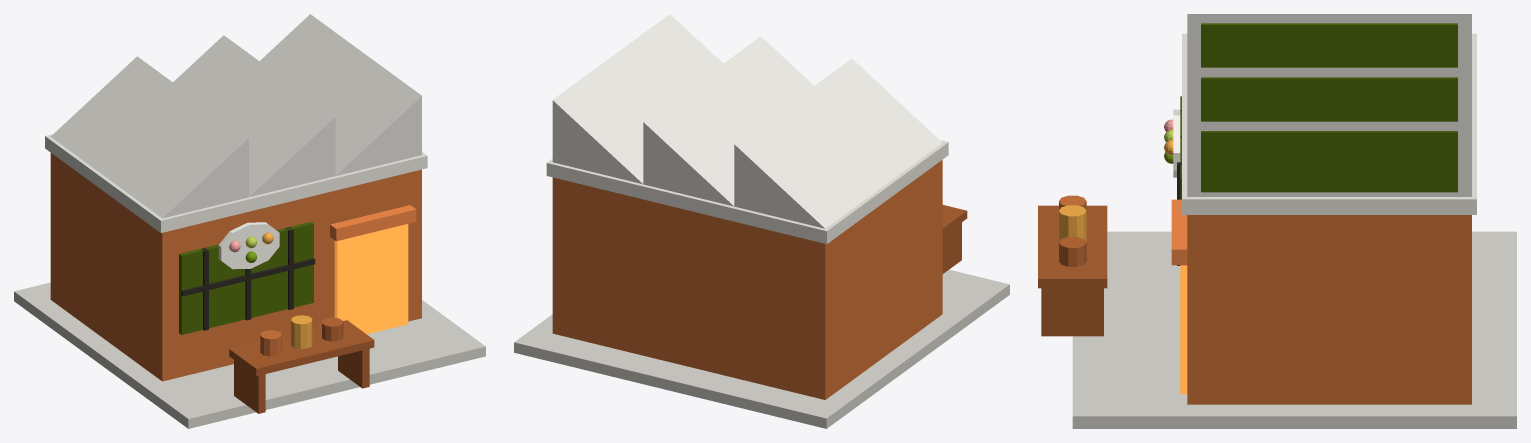
The model's file is ruta_taller.glb.
3 renders of one model, left to right at view 1: azimuth 30°, elevation 25°; view 2: azimuth 150°, elevation 25°; view 3: azimuth 270°, elevation 25°, orthographic. The views are drawn at different scales.
Parts seen in each view (by area): view 1: ruta_taller; view 2: ruta_taller; view 3: ruta_taller.
Part boxes in pixels (x1,y1,x2,y2): ruta_taller: [14, 14, 485, 428]; ruta_taller: [514, 14, 1009, 428]; ruta_taller: [1038, 14, 1516, 428].
Bounding box in the file's own units: 1.26 × 0.94 × 1.38.
